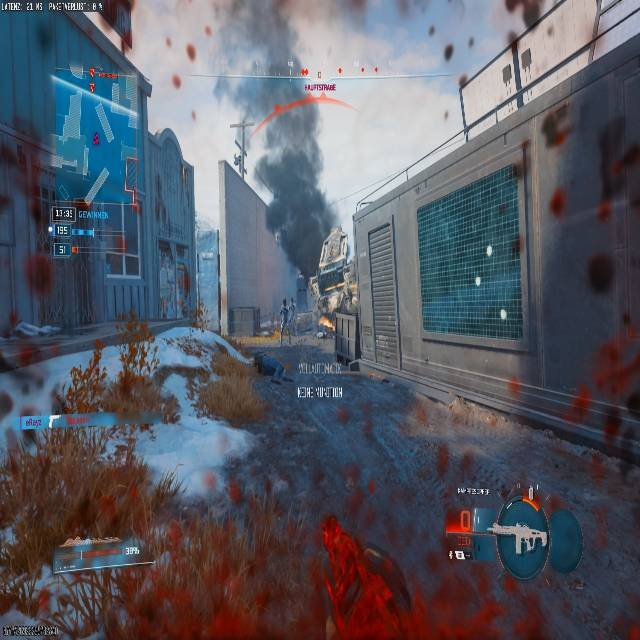player: (245, 100, 354, 349)
